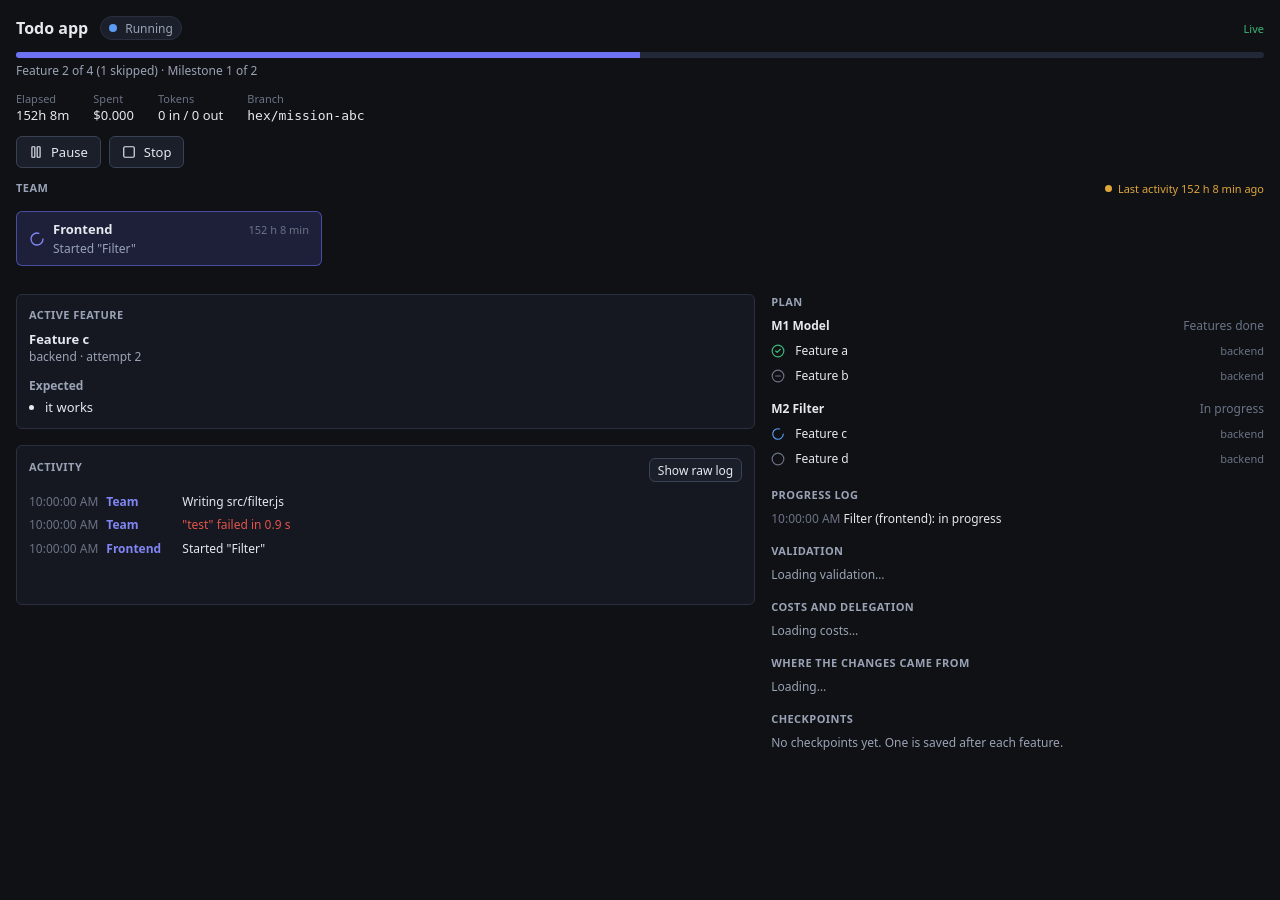
Scenario: MissionScreen: a running mission › shows what the team is doing from the pushed events only
Check: the text "Writing src/filter.js" is shown, box [182,493,284,510]
Check: the text "\"test\" failed in 0.9 s" is shown, box [182,516,290,534]
the raw log is one click away
Click the button "Show raw log". click: (696, 470)
box: [649,458,742,482]
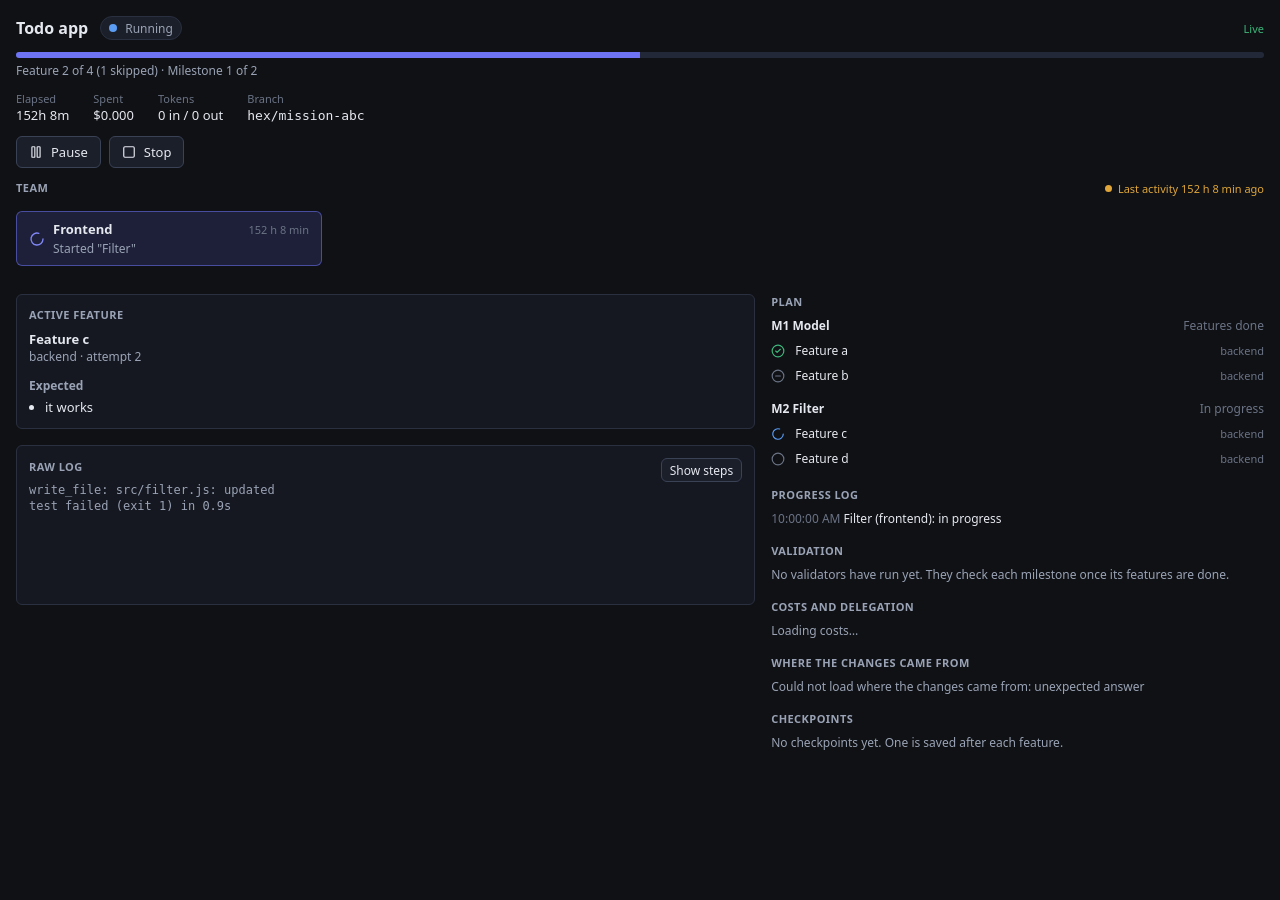
Check: the text "Frontend" is shown, box [53,220,112,238]
Check: the list item "write_file: src/filter.js: updated" is shown, box [29,483,275,497]
Check: the list item "test failed (exit 1) in 0.9s" is shown, box [29,499,231,513]
